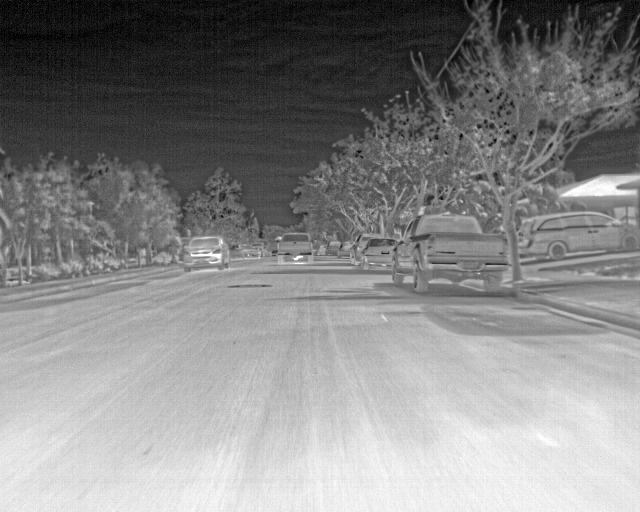car: (390, 211, 510, 296), (518, 209, 636, 261), (180, 235, 231, 274), (354, 238, 396, 270), (276, 234, 316, 264), (349, 237, 377, 261), (254, 242, 271, 256), (229, 240, 243, 257), (242, 244, 257, 256)
